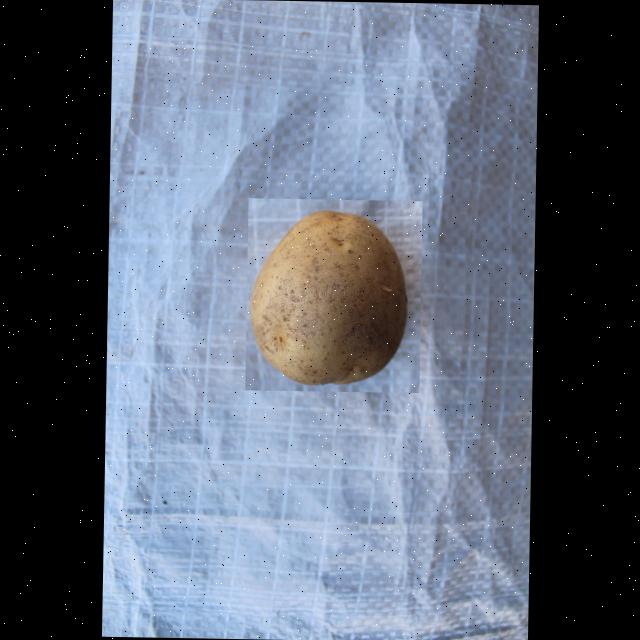Diseased-fungal potato: (245, 196, 422, 392)
